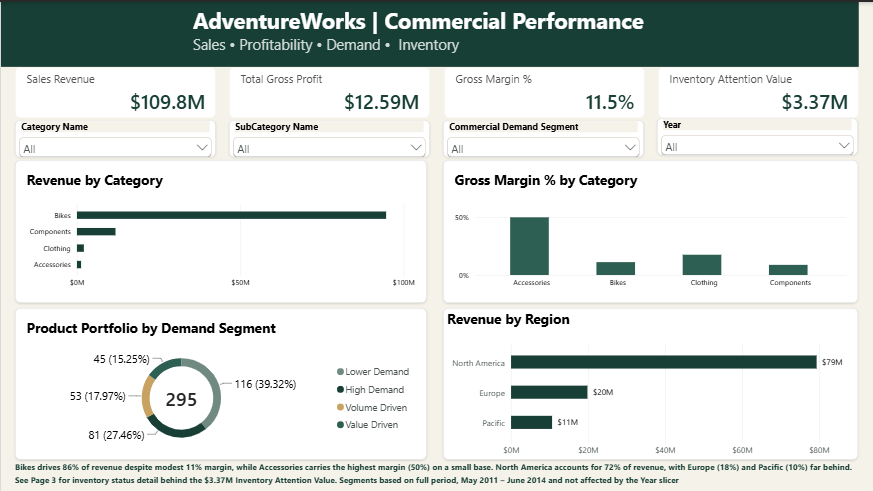

This screenshot's page, from the dashboard's own definition file:
{"tool":"powerbi","page":{"name":"Comm Overview","canvas":[1280,720],"ordinal":0},"visuals":[{"type":"shape","box":[0,0,1260,95],"z":0},{"type":"textbox","box":[282.5,5,1042.5,85],"z":1000},{"type":"cardVisual","fields":{"Data":["_Measures.Sales Revenue"]},"box":[20,95,295,75],"z":2000,"group":"g1"},{"type":"slicer","fields":{"Values":["DimProductCategory.Category Name"]},"box":[20,173.5,295,55],"z":2000},{"type":"clusteredBarChart","title":"Revenue by Category","fields":{"Category":["DimProductCategory.Category Name","DimProductSubCategory.SubCategory Name"],"Y":["_Measures.Sales Revenue"]},"box":[20,232,605,210],"z":3000},{"type":"slicer","fields":{"Values":["DimProductSubCategory.SubCategory Name"]},"box":[335,173.5,295,55],"z":4000},{"type":"clusteredColumnChart","title":"Gross Margin % by Category","fields":{"Category":["DimProductCategory.Category Name","DimProductSubCategory.SubCategory Name"],"Y":["_Measures.Gross Margin %"]},"box":[650,231.7,610,210],"z":5000},{"type":"cardVisual","fields":{"Data":["_Measures.Total Gross Profit"]},"box":[335,95,295,75],"z":6000,"group":"g1"},{"type":"donutChart","title":"Product Portfolio by Demand Segment","fields":{"Category":["DimProduct.Commercial Demand Segment"],"Y":["Count(DimProduct.ProductID)"]},"box":[20,450,605,223.3],"z":6000},{"type":"cardVisual","fields":{"Data":["_Measures.Gross Margin %"]},"box":[650,95,295,75],"z":7000,"group":"g1"},{"type":"slicer","fields":{"Values":["DimProduct.Commercial Demand Segment"]},"box":[650,173.5,295,55],"z":7000},{"type":"barChart","title":"Revenue by Region","fields":{"Category":["DimSalesTerritory.Regional Group","DimSalesTerritory.Territory Name"],"Y":["_Measures.Sales Revenue"]},"box":[650,450,610,223.3],"z":8000},{"type":"group","id":"g1","title":"Group 1","box":[20,95,1240,75],"z":9000},{"type":"cardVisual","fields":{"Data":["_Measures.Inventory Attention Value"]},"box":[965,95,295,75],"z":9000,"group":"g1"},{"type":"textbox","box":[20,673.3,1231.1,37.8],"z":10000},{"type":"slicer","fields":{"Values":["DimDate.Year"]},"box":[964.4,171.1,295,55],"z":11000}]}

Visuals, with their boxes in screenshot pixels (x1, y1, x2, y2), scaled from the page's 1280x720 canvas onto the 873x491 screenshot:
shape: bbox=(0, 0, 859, 65)
textbox: bbox=(193, 3, 872, 61)
cardVisual - _Measures.Sales Revenue: bbox=(14, 65, 215, 116)
slicer - DimProductCategory.Category Name: bbox=(14, 118, 215, 156)
"Revenue by Category" clusteredBarChart: bbox=(14, 158, 426, 301)
slicer - DimProductSubCategory.SubCategory Name: bbox=(228, 118, 430, 156)
"Gross Margin % by Category" clusteredColumnChart: bbox=(443, 158, 859, 301)
cardVisual - _Measures.Total Gross Profit: bbox=(228, 65, 430, 116)
"Product Portfolio by Demand Segment" donutChart: bbox=(14, 307, 426, 459)
cardVisual - _Measures.Gross Margin %: bbox=(443, 65, 645, 116)
slicer - DimProduct.Commercial Demand Segment: bbox=(443, 118, 645, 156)
"Revenue by Region" barChart: bbox=(443, 307, 859, 459)
"Group 1" group: bbox=(14, 65, 859, 116)
cardVisual - _Measures.Inventory Attention Value: bbox=(658, 65, 859, 116)
textbox: bbox=(14, 459, 853, 485)
slicer - DimDate.Year: bbox=(658, 117, 859, 154)
